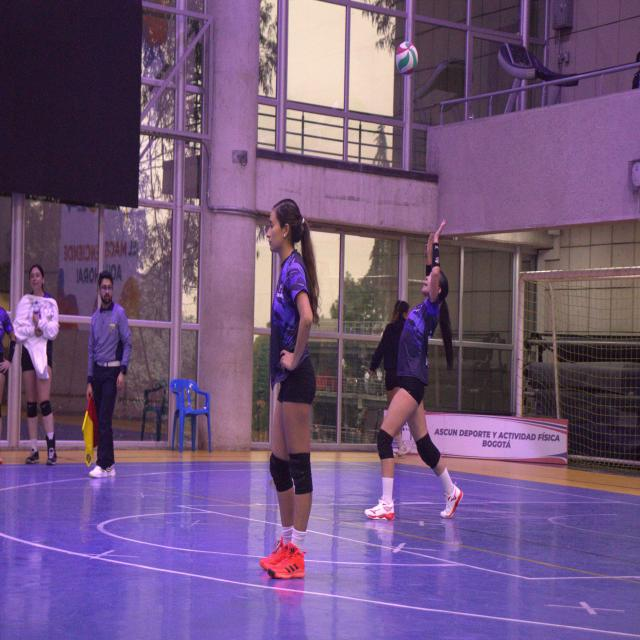volleyball: (395, 40, 416, 78)
